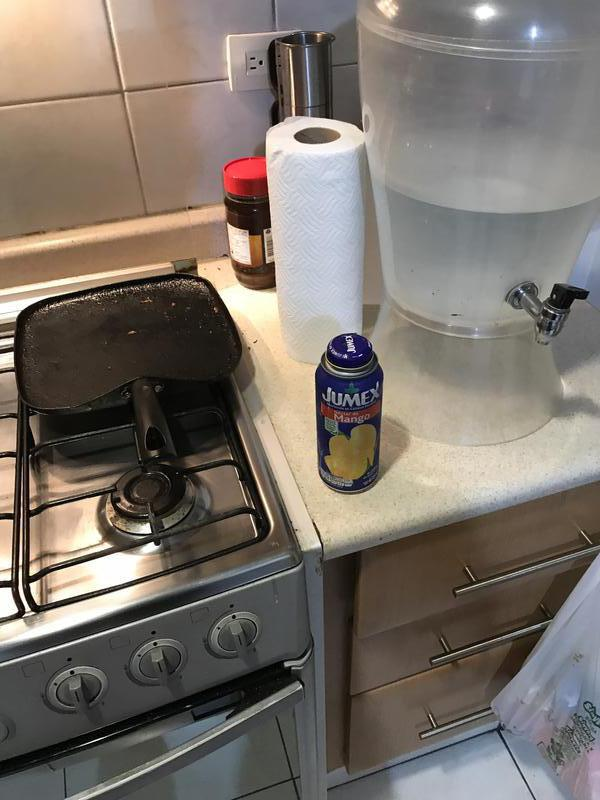jugo_jumex: (316, 332, 382, 492)
